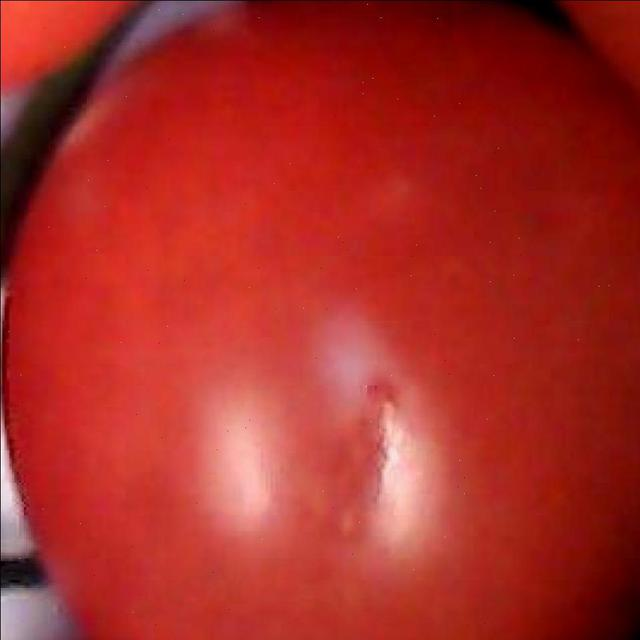Healthy Fruit: (3, 0, 427, 418)
